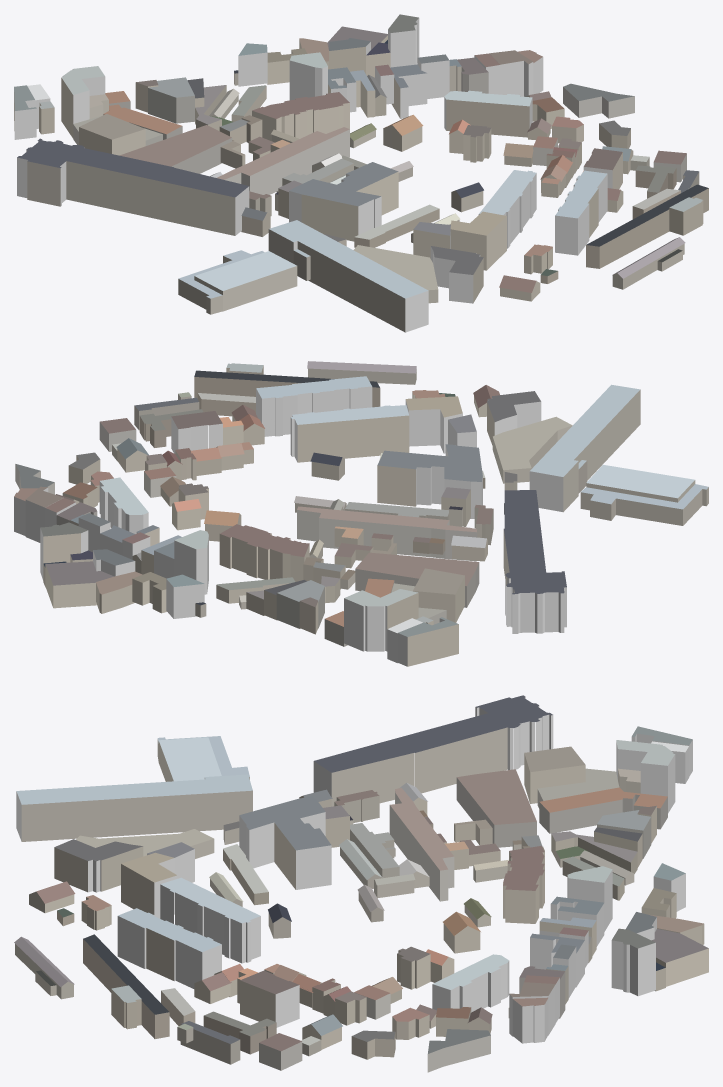
3 renders of one model, top to bottom at view 1: azimuth 30°, elevation 25°; view 2: azimuth 150°, elevation 25°; view 3: azimuth 270°, elevation 25°, orthographic. The views are drawn at different scales.
Visible parts, largest first — view 1: tuile; view 2: tuile; view 3: tuile.
Part boxes in pixels (x1,y1,x2,y2): tuile: (14,14,708,332); tuile: (14,361,708,666); tuile: (14,695,708,1072).
Size of the model in its own units: 287 by 36.6 by 274.
